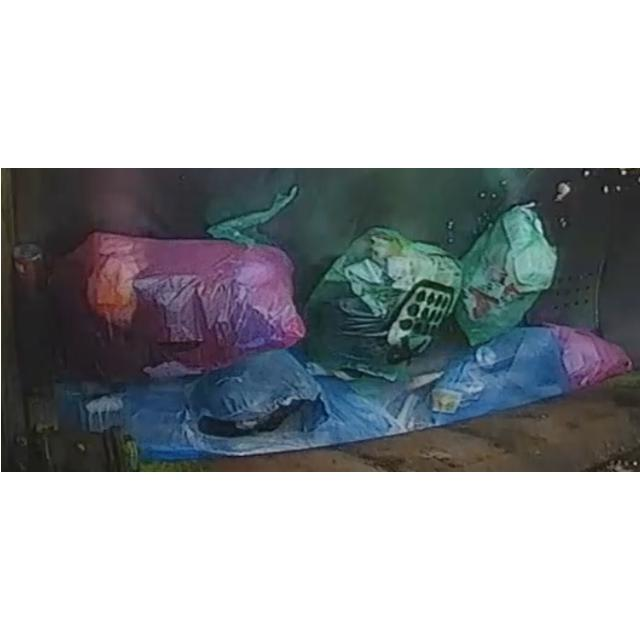general_trashbag: (306, 227, 462, 369), (455, 203, 558, 345)
other_trashbag: (51, 232, 305, 379), (181, 350, 404, 456), (430, 327, 569, 426)
